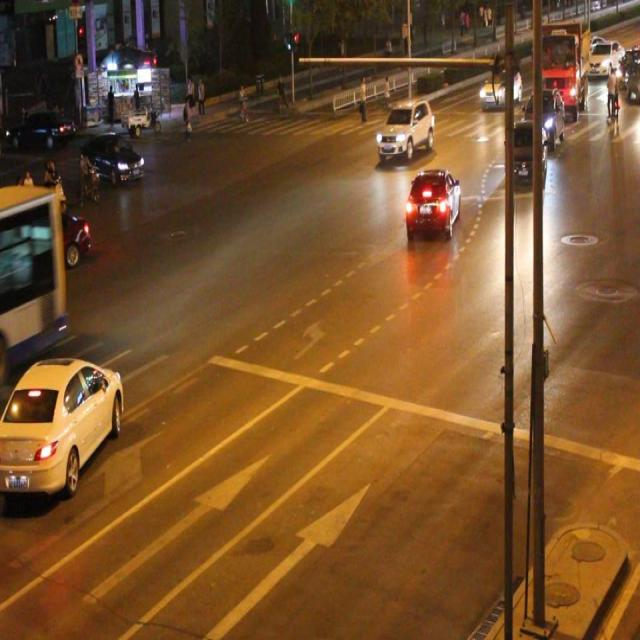car: (0, 358, 124, 492), (22, 208, 91, 270), (404, 165, 461, 239), (374, 97, 432, 158), (503, 120, 547, 188)
van: (1, 182, 67, 368)
